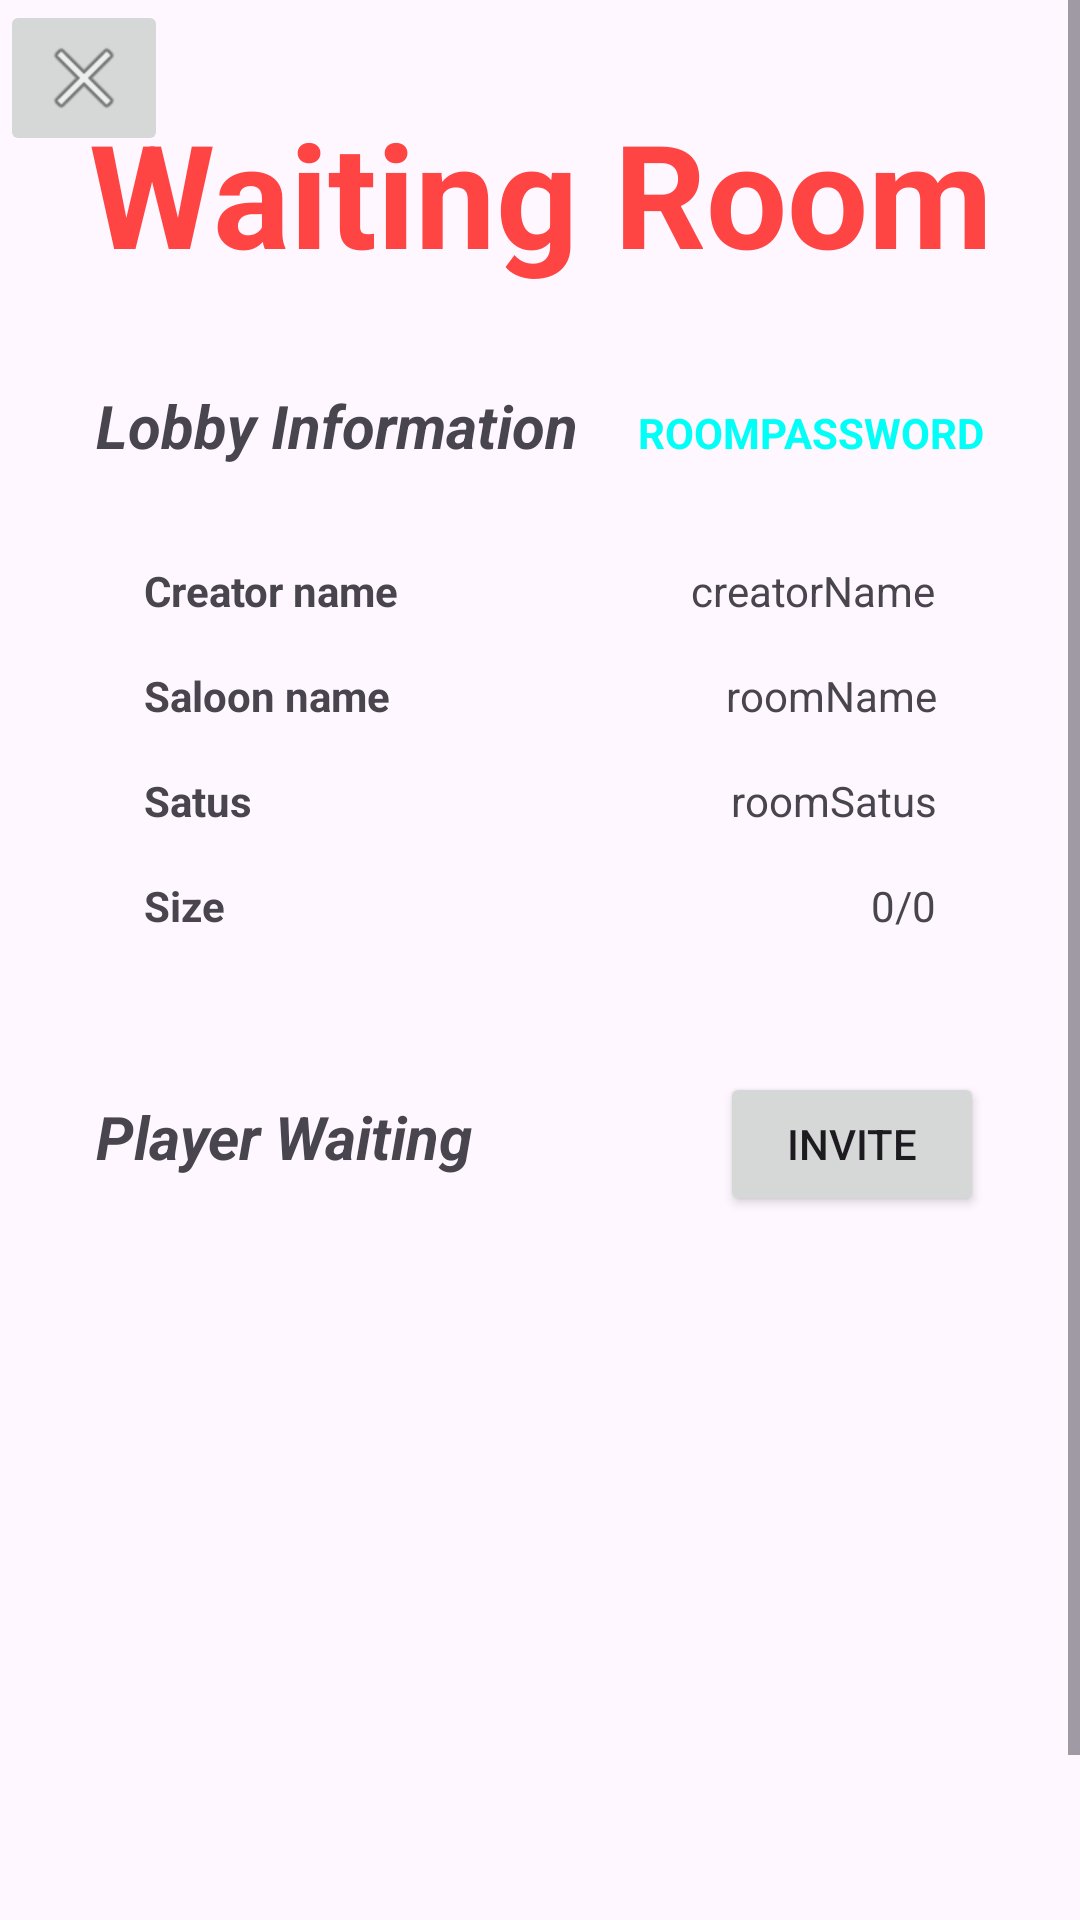

Screen size 1080x1920. Icon name, then its center in pixels as (x=x, y=y):
close clear cancel: (x=84, y=78)
